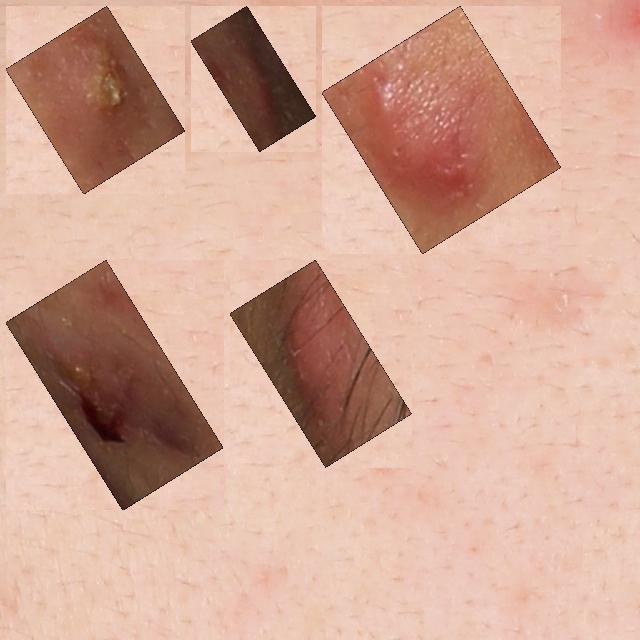nodule: (333, 17, 550, 242), (17, 271, 212, 499), (241, 271, 401, 456), (17, 17, 174, 183), (202, 17, 305, 140)
